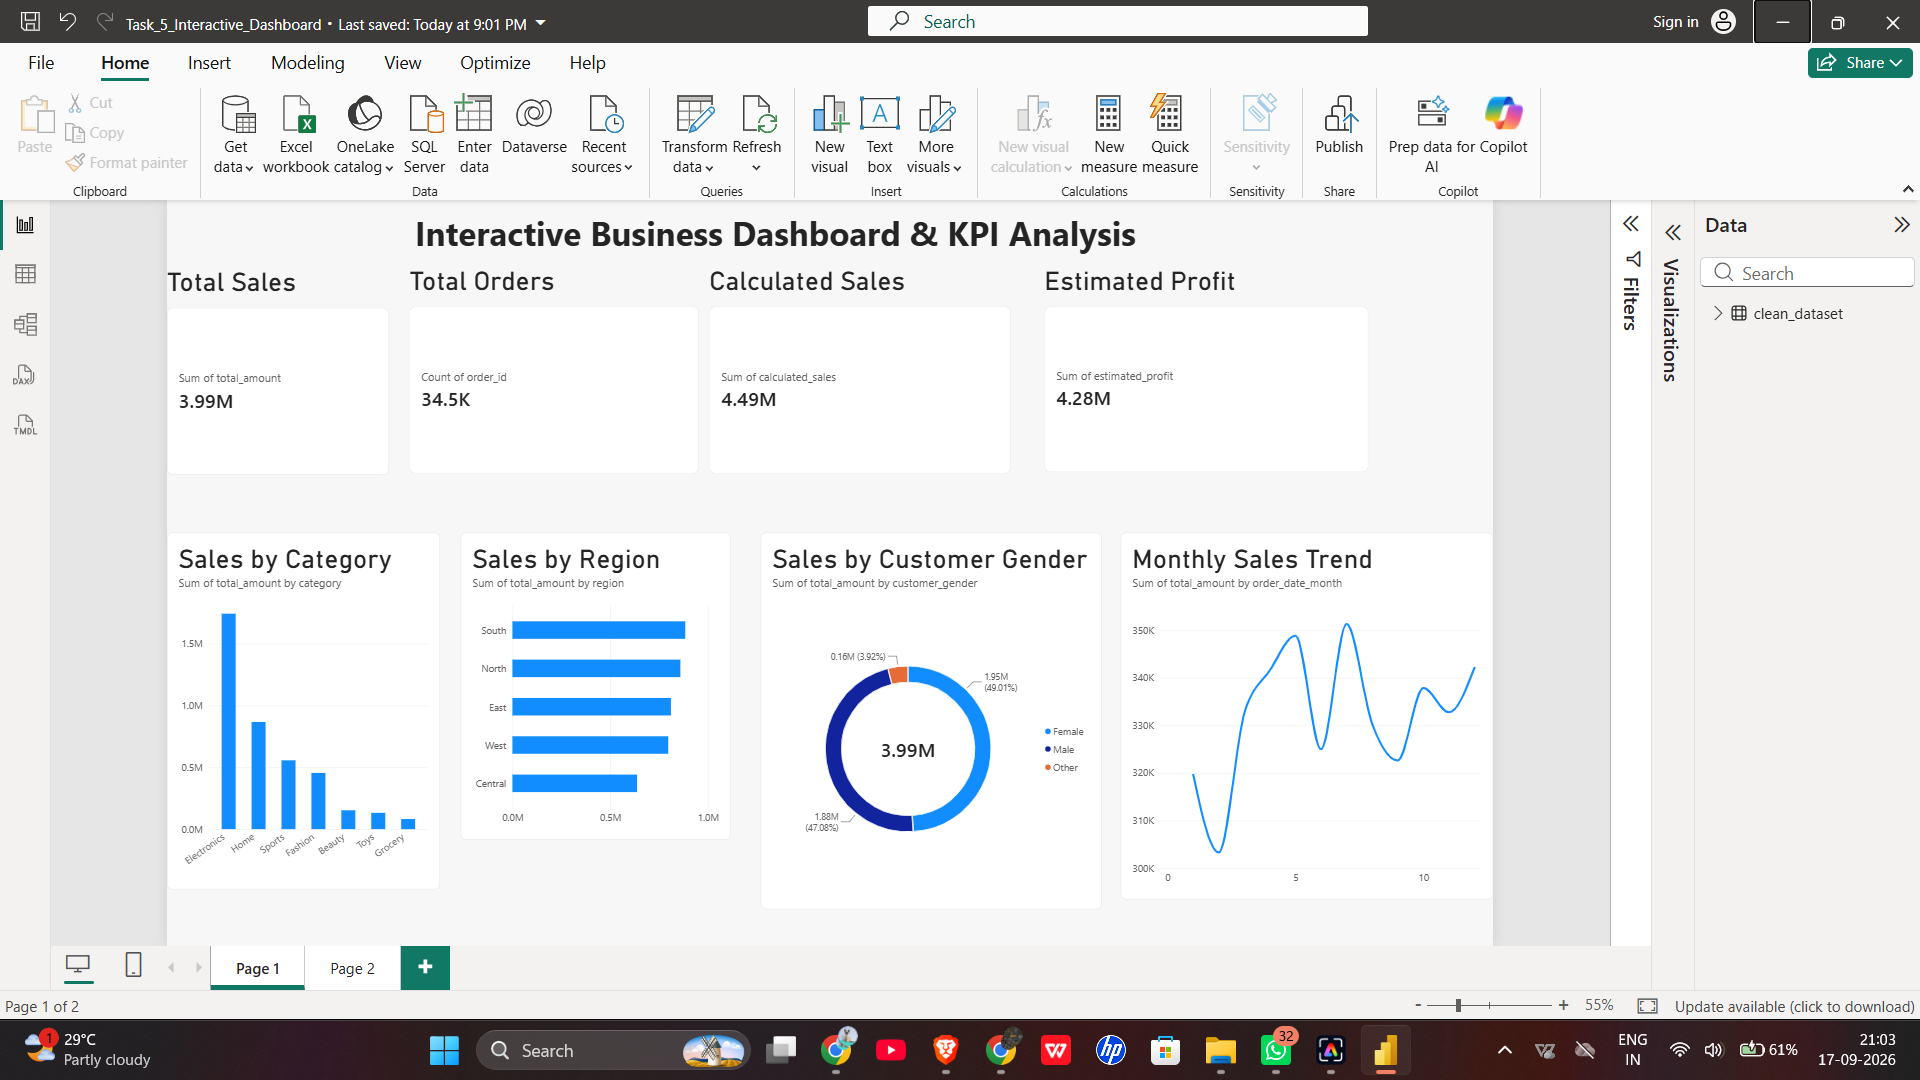

Layout of this report page (visuals, bound fields, positions):
{"tool":"powerbi","page":{"name":"Page 1","canvas":[1920,1080],"ordinal":0},"visuals":[{"type":"textbox","box":[10,0,280,280],"z":0},{"type":"textbox","box":[113.2,14.4,1533.5,82.3],"z":1000},{"type":"cardVisual","title":"Total Sales","fields":{"Data":["Sum(clean_dataset.total_amount)"]},"box":[0,96.7,321.1,302.6],"z":2000},{"type":"cardVisual","title":"Calculated Sales","fields":{"Data":["Sum(clean_dataset.calculated_sales)"]},"box":[786.3,94.7,436.4,302.6],"z":3000},{"type":"cardVisual","title":"Estimated Profit","fields":{"Data":["Sum(clean_dataset.estimated_profit)"]},"box":[1270,94.7,469.3,300.5],"z":4000},{"type":"cardVisual","title":"Total Orders","fields":{"Data":["CountNonNull(clean_dataset.order_id)"]},"box":[352,94.7,419.9,302.6],"z":5000},{"type":"clusteredColumnChart","title":"Sales by Category","fields":{"Category":["clean_dataset.category"],"Y":["Sum(clean_dataset.total_amount)"]},"box":[0,480.6,395.2,516.6],"z":6000},{"type":"clusteredBarChart","title":"Sales by Region","fields":{"Category":["clean_dataset.region"],"Y":["Sum(clean_dataset.total_amount)"]},"box":[426.1,481.6,391.1,444.6],"z":7000},{"type":"donutChart","title":"Sales by Customer Gender","fields":{"Category":["clean_dataset.customer_gender"],"Y":["Sum(clean_dataset.total_amount)"]},"box":[860.4,481.6,494,545.5],"z":8000},{"type":"lineChart","title":"Monthly Sales Trend","fields":{"Category":["clean_dataset.order_date_month"],"Y":["Sum(clean_dataset.total_amount)"]},"box":[1381.3,480.6,539.3,531],"z":9000}]}

Visuals, with their boxes on the page's 1920x1080 design canvas (x1, y1, x2, y2). These are canvas units, not pixel positions in the 1920x1080 screenshot, which may show the page scaled, cropped or inside an application window:
textbox: (x1=10, y1=0, x2=290, y2=280)
textbox: (x1=113, y1=14, x2=1647, y2=97)
"Total Sales" cardVisual: (x1=0, y1=97, x2=321, y2=399)
"Calculated Sales" cardVisual: (x1=786, y1=95, x2=1223, y2=397)
"Estimated Profit" cardVisual: (x1=1270, y1=95, x2=1739, y2=395)
"Total Orders" cardVisual: (x1=352, y1=95, x2=772, y2=397)
"Sales by Category" clusteredColumnChart: (x1=0, y1=481, x2=395, y2=997)
"Sales by Region" clusteredBarChart: (x1=426, y1=482, x2=817, y2=926)
"Sales by Customer Gender" donutChart: (x1=860, y1=482, x2=1354, y2=1027)
"Monthly Sales Trend" lineChart: (x1=1381, y1=481, x2=1921, y2=1012)
